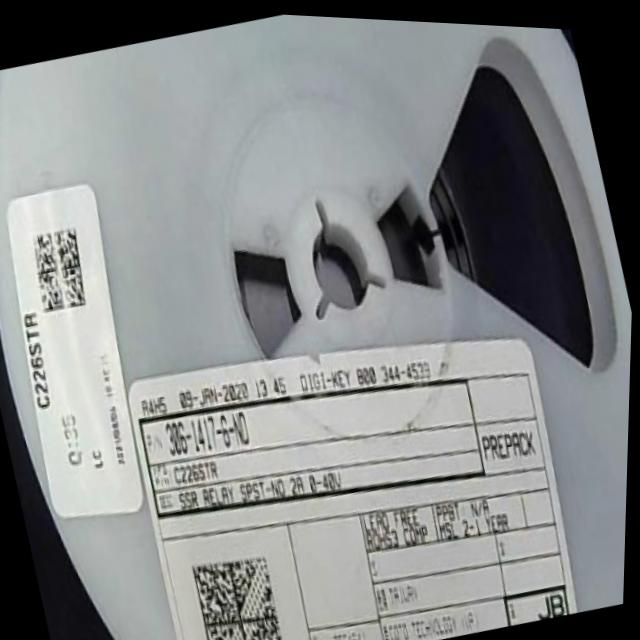datamatrix: (190, 540, 299, 640), (24, 221, 97, 318)
